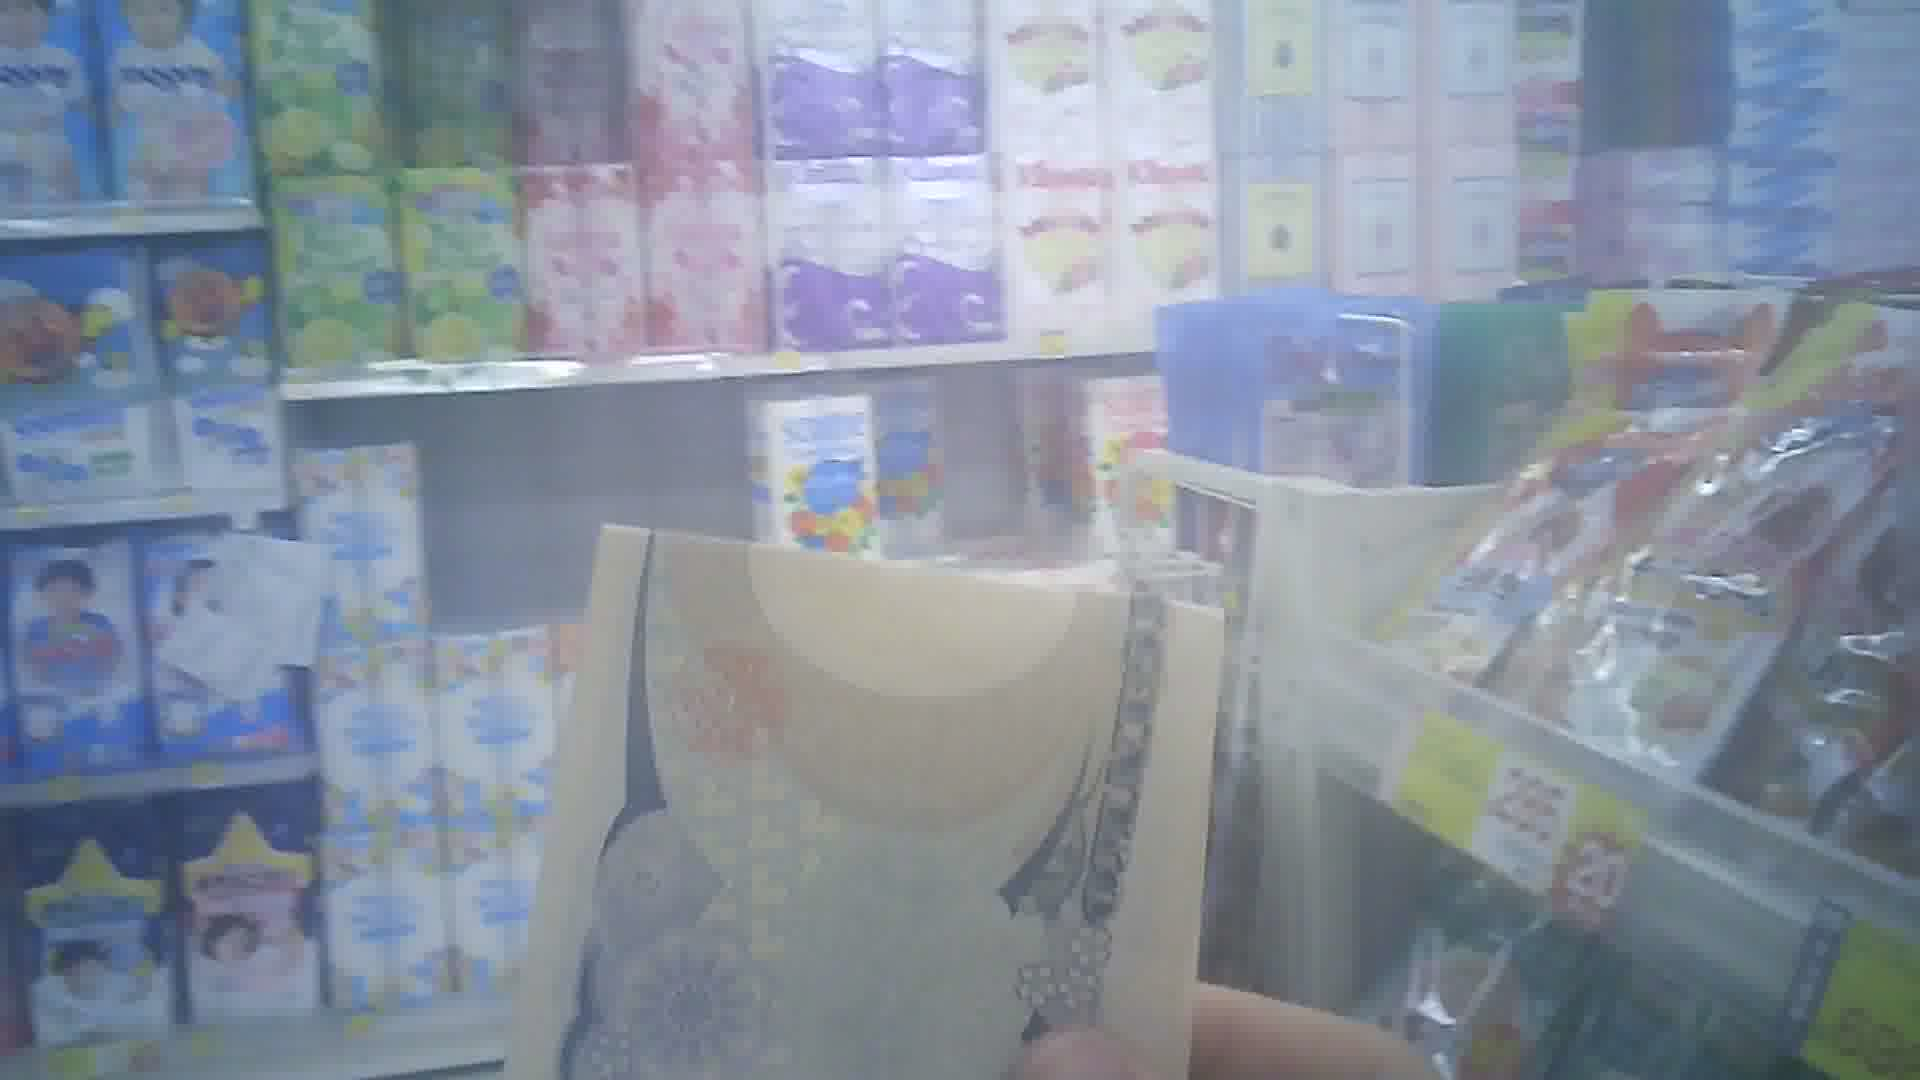1,000 Yen: (531, 505, 1203, 1079)
